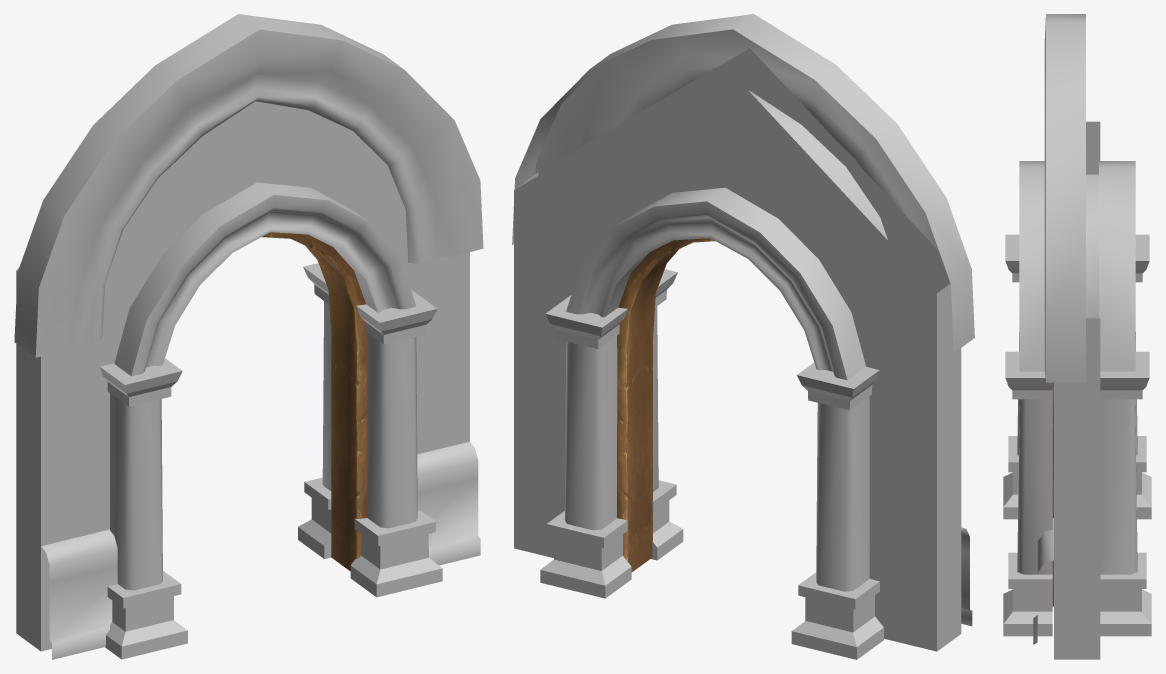
The model's file is Arch_Door_06.FBX.
The picture shows the model from 3 angles, left to right: view 1: azimuth 30°, elevation 25°; view 2: azimuth 150°, elevation 25°; view 3: azimuth 270°, elevation 25°; orthographic projection. The views are drawn at different scales.
Visible parts, largest first — view 1: Arch_Door_06; view 2: Arch_Door_06; view 3: Arch_Door_06.
Boxes of the visible parts, bbox=[...] form: Arch_Door_06: bbox=[14, 14, 483, 659]; Arch_Door_06: bbox=[512, 14, 974, 659]; Arch_Door_06: bbox=[1003, 14, 1151, 659].
Bounding box in the file's own units: 627 × 191 × 768.
